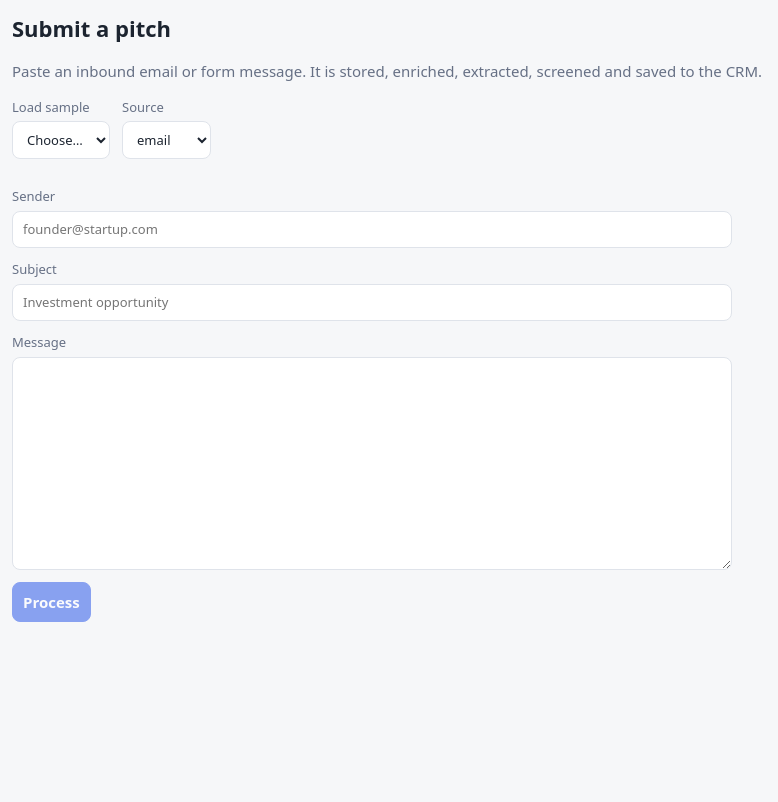
Test case: SubmitPage › shows why processing failed and where to find it
Type "hello" into the text box labelled "Message". click: (372, 463)
box: 12,356 -> 732,570
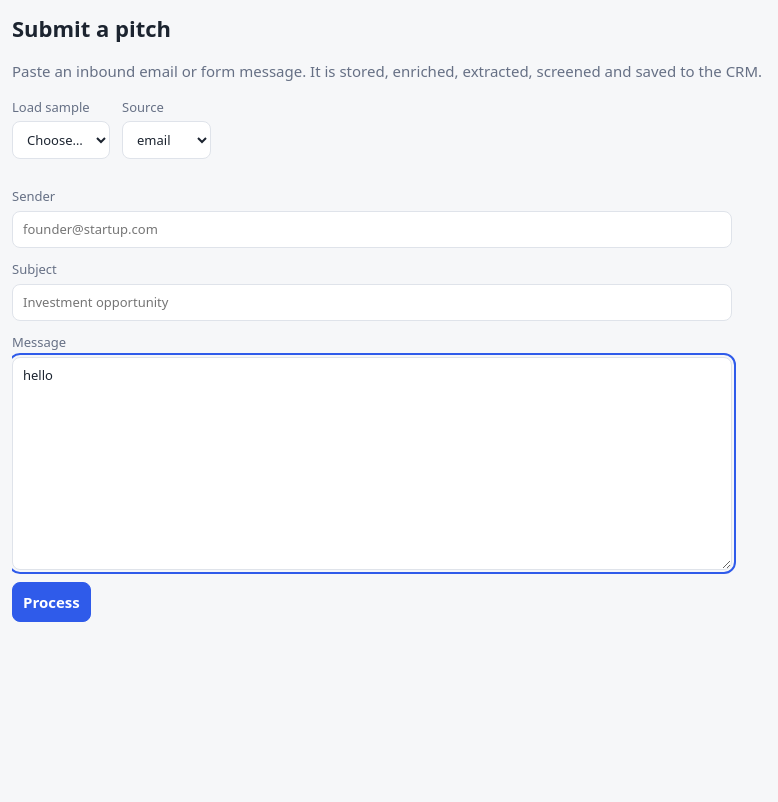
Click the button "Process". click: click(51, 602)
box: 12,582 -> 91,622
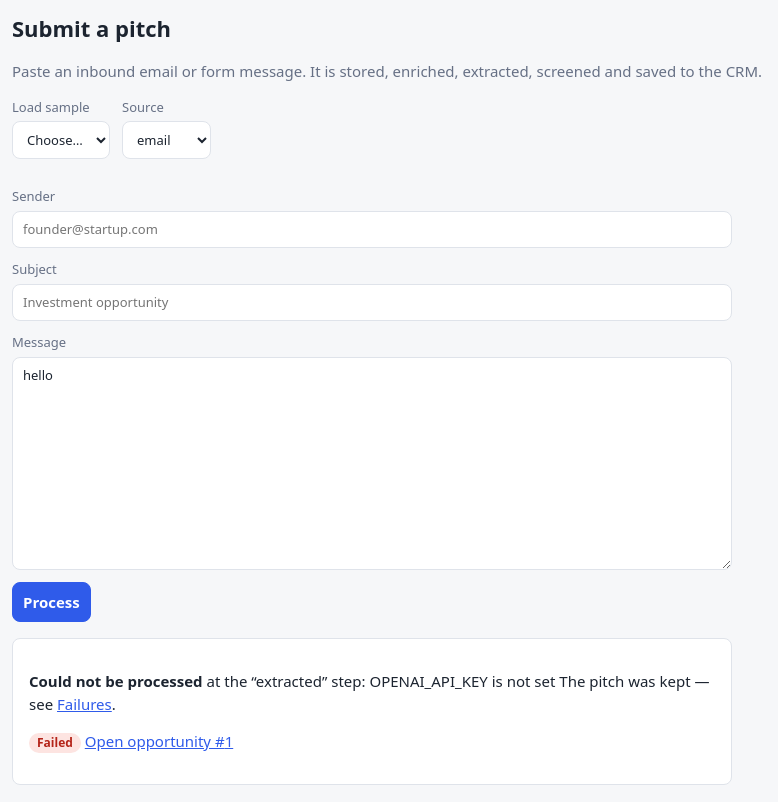
Expected: the text "OPENAI_API_KEY is not set" is shown, 369,671 -> 555,691
Expected: the link "Failures" is shown, 57,694 -> 112,714
